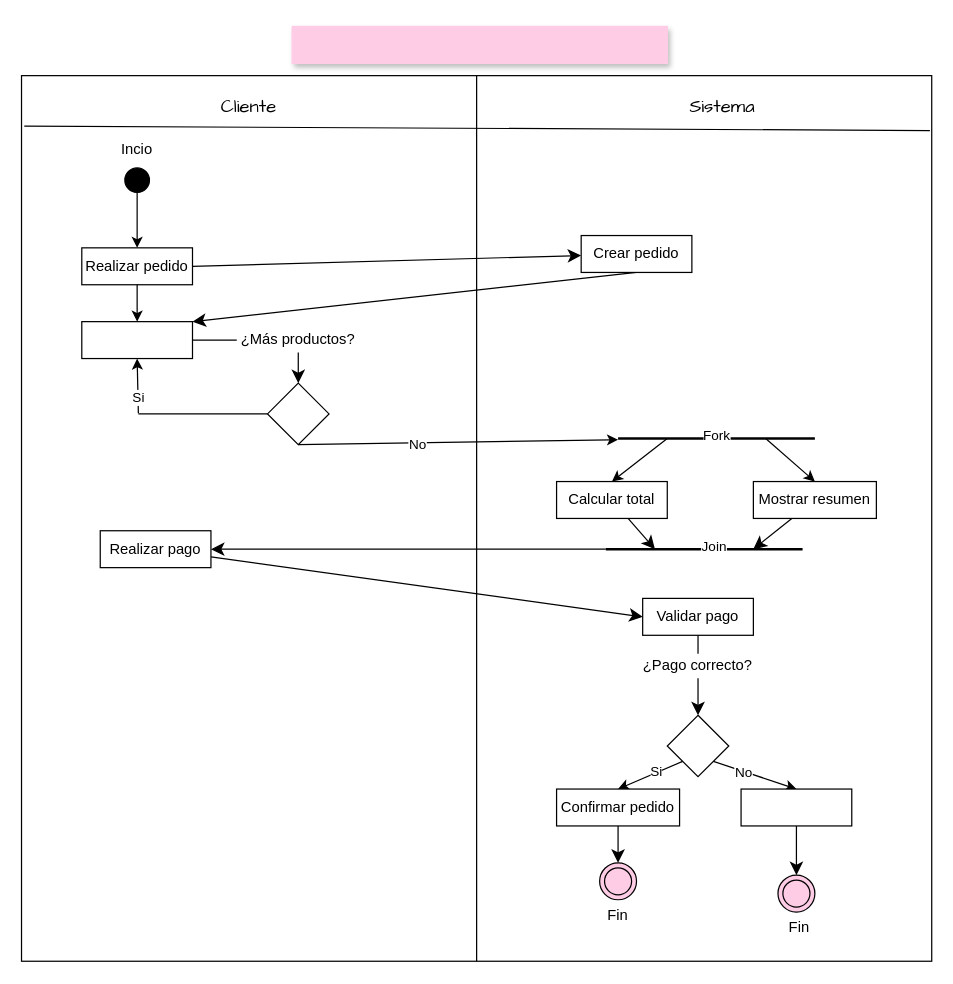
The diagram is 953 pixels wide and 984 high, and some of its shapes have lost their labels. The centre of each missing label's shape, as x and y in pixels:
Añadir producto: point (136, 339)
Cancelar pedido: point (796, 807)
Diagrama de actividades: point (480, 46)
